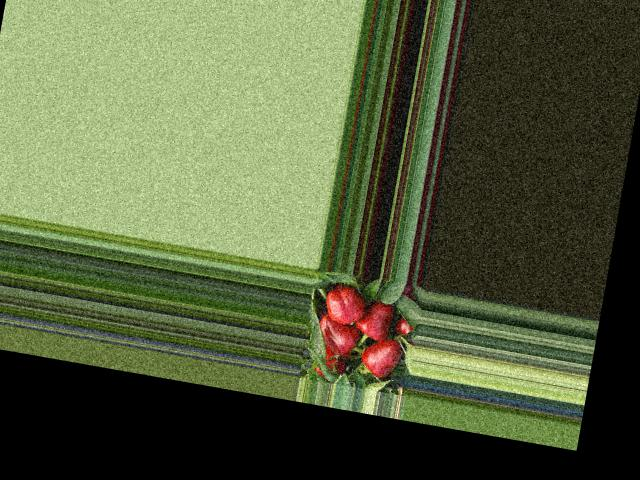bell_pepper: (319, 282, 377, 329)
